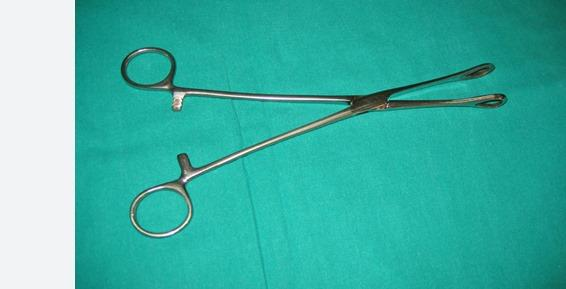Sponge Holding Forceps: (113, 31, 510, 240)
